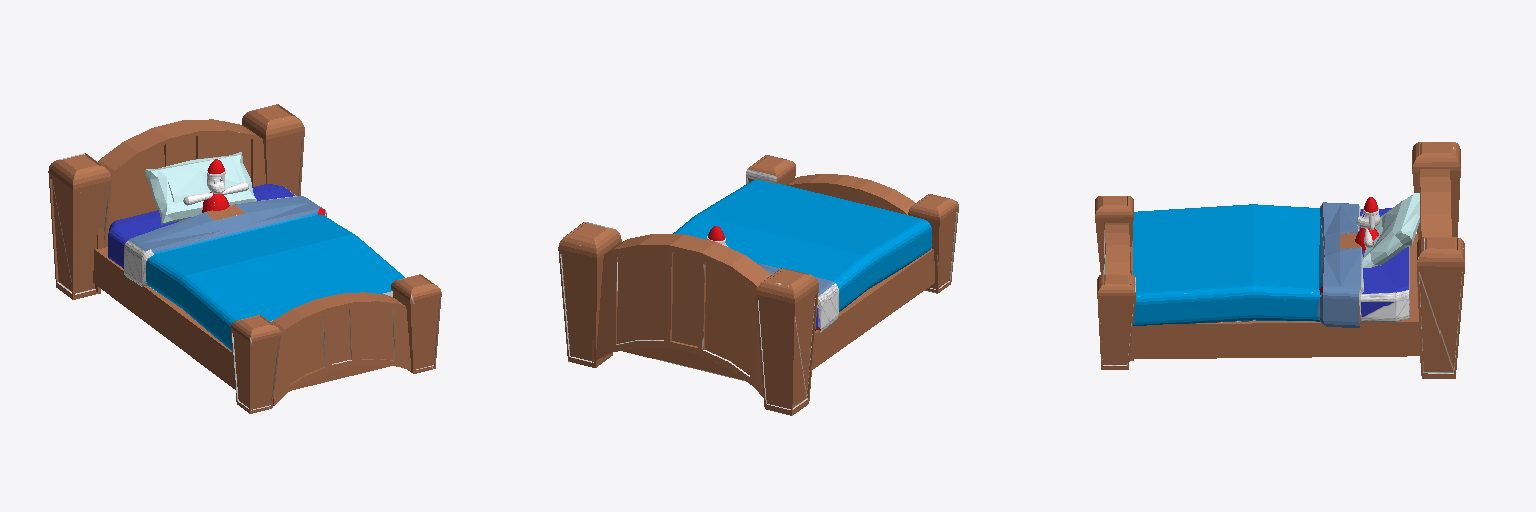
3 renders of one model, left to right at view 1: azimuth 30°, elevation 25°; view 2: azimuth 150°, elevation 25°; view 3: azimuth 270°, elevation 25°, orthographic.
Parts seen in each view (by area): view 1: polySurface197; view 2: polySurface197; view 3: polySurface197.
Part boxes in pixels (left/top/right/bottom): polySurface197: left=48, top=104, right=441, bottom=413; polySurface197: left=558, top=155, right=958, bottom=415; polySurface197: left=1095, top=142, right=1464, bottom=378.
Bounding box in the file's own units: 2.34 × 1.34 × 3.2.
1 materials, 1 textured.